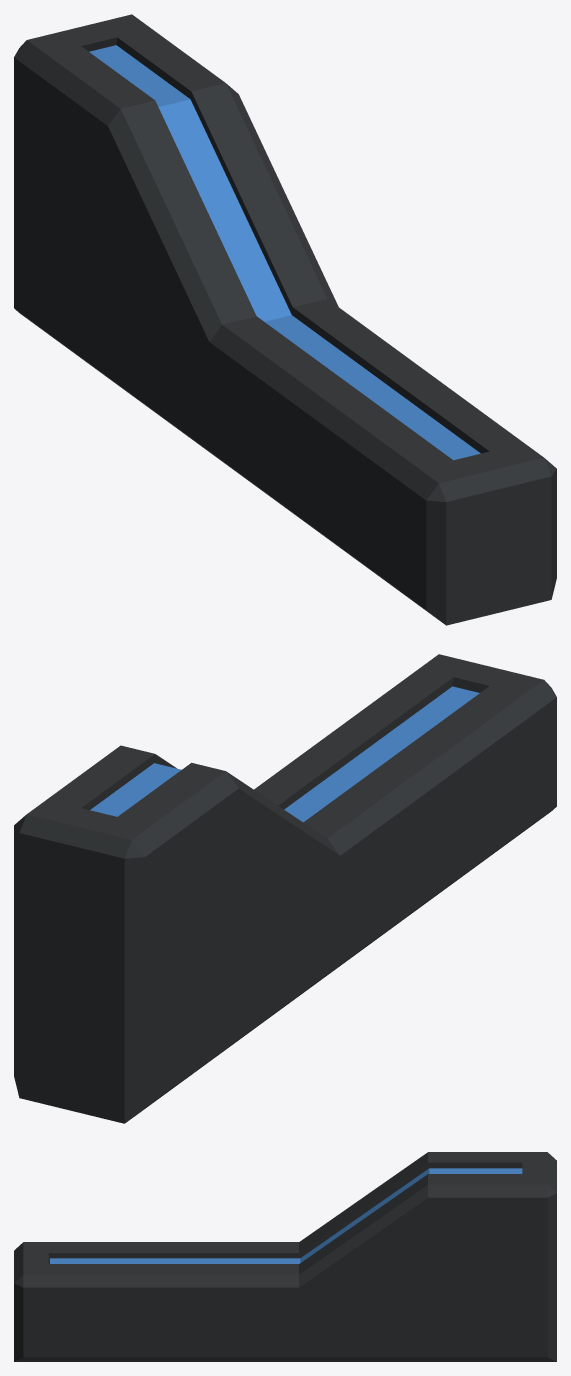
The model's file is ShortWall.fbx.
3 renders of one model, top to bottom at view 1: azimuth 30°, elevation 25°; view 2: azimuth 150°, elevation 25°; view 3: azimuth 270°, elevation 25°, orthographic. The views are drawn at different scales.
Parts seen in each view (by area): view 1: Cube.153; view 2: Cube.153; view 3: Cube.153.
Part boxes in pixels (x1,y1,x2,y2): Cube.153: (14, 14, 556, 625); Cube.153: (14, 654, 556, 1123); Cube.153: (14, 1152, 556, 1361).
Bounding box in the file's own units: 200 × 407 × 1131.
